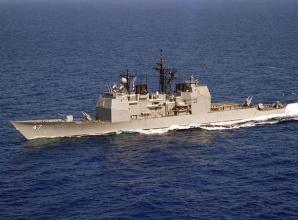warship: (4, 53, 291, 141)
